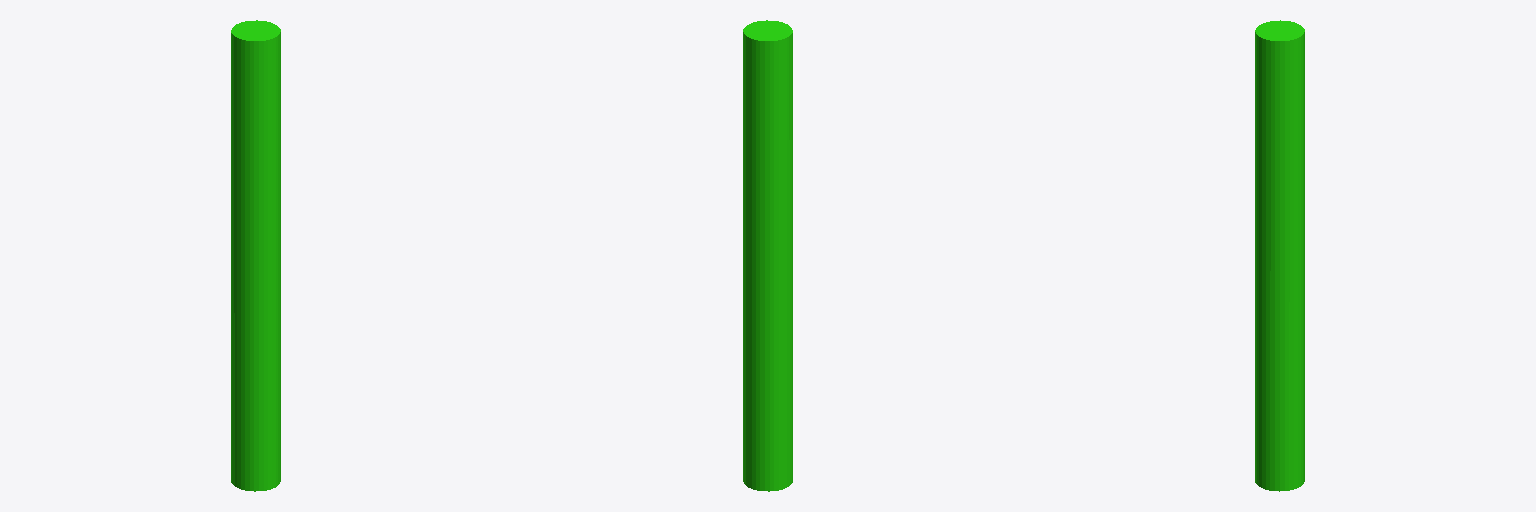
robot.urdf — Puma:
<?xml version="1.0" ?>

<robot name="Puma">

	<link name="ground">
		<inertial>
			<origin xyz="0.0 0.0 0.0" rpy="0 0 0" />
			<mass value="0.001" />
			<inertia ixx="0.01" iyy="0.01" izz="0.01" ixy="0" ixz="0" iyz="0" />
		</inertial>
		<visual>
			<origin xyz="0.0 0.0 0.0" rpy="0 0 0" />
			<geometry>
				<mesh filename="meshes/base_bl.obj" scale="1 1 1" />
			</geometry>
		</visual>
	</link>

	<link name="base">
		<inertial>
			<origin xyz="0.0 0.0 0.0" rpy="0 0 0" />
			<mass value="34.4" />
			<inertia ixx="0.18" iyy="0.18" izz="0.35" ixy="0" ixz="0" iyz="0" />
		</inertial>
		<visual>
			<origin xyz="0.0 0.0 0.0" rpy="0 0 0" />
			<geometry>
				<mesh filename="meshes/shoulder_bl.obj" scale="1 1 1" />
			</geometry>
		</visual>
	</link>

	<link name="upper_arm">
		<inertial>
			<origin xyz="0.068 0.006 -0.016" rpy="0 0 0" />
			<mass value="17.4" />
			<inertia ixx="0.130" iyy="0.524" izz="0.539" ixy="0" ixz="0" iyz="0" />
		</inertial>
		<visual>
			<origin xyz="0.0 0.0 0.0" rpy="0 0 0" />
			<geometry>
				<mesh filename="meshes/upper_arm_bl.obj" scale="1 1 1" />
			</geometry>
		</visual>
	</link>

	<link name="lower_arm">
		<inertial>
			<origin xyz="0.0 -0.143 0.014" rpy="0 0 0" />
			<mass value="6.04" />
			<inertia ixx="0.066" iyy="0.0125" izz="0.086" ixy="0" ixz="0" iyz="0" />
		</inertial>
		<visual>
			<origin xyz="-0.02 0.0 -0.005" rpy="0 0 0" />
			<geometry>
				<mesh filename="meshes/lower_arm_bl.obj" scale="1 1 1" />
			</geometry>
		</visual>
	</link>

	<link name="wrist-hand">
		<inertial>
			<origin xyz="0.0 0.0 -0.019" rpy="0 0 0" />
			<mass value="0.82" />
			<inertia ixx="0.0018" iyy="0.0018" izz="0.0013" ixy="0" ixz="0" iyz="0" />
		</inertial>
		<visual>
			<origin xyz="0.0 0.0 0.0" rpy="0 0 0" />
			<geometry>
				<mesh filename="meshes/hand_bl.obj" scale="1 1 1" />
			</geometry>
		</visual>
	</link>

	<link name="wrist-finger">
		<inertial>
			<origin xyz="0.0 0.0 0.0" rpy="0 0 0" />
			<mass value="0.34" />
			<inertia ixx="0.0003" iyy="0.0003" izz="0.0004" ixy="0" ixz="0" iyz="0" />
		</inertial>
		<visual>
			<origin xyz="0.0 0.0 0.0" rpy="0 0 0" />
			<geometry>
				<mesh filename="meshes/finger_bl.obj" scale="1 1 1" />
			</geometry>
		</visual>
	</link>

	<link name="end-effector">
		<inertial>
			<origin xyz="0.0 0.0 0.032" rpy="0 0 0" />
			<mass value="0.09" />
			<inertia ixx="0.000150" iyy="0.000150" izz="0.000040" ixy="0" ixz="0" iyz="0" />
		</inertial>
		<visual>
			<origin xyz="0.0 0.0 0.0" rpy="0 -1.5707 0" />
			<geometry>
                <cylinder radius="0.01" length="0.2" />
            </geometry>
            <material name="link5-1">
                <color rgba="0.2 0.9 0.1 1.0" />
            </material>
		</visual>
	</link>

	<joint name="shoulder-yaw" type="revolute">
		<parent link="ground" />
		<child link="base" />
		<origin xyz="0.0 0.0 0.66" rpy="0.0 0.0 0.0" />
		<axis xyz="0 0 1" />
		<limit lower="-3.14159" upper="3.14159" effort="97.6" velocity="1.0" />
	</joint>

	<joint name="shoulder-pitch" type="revolute">
		<parent link="base" />
		<child link="upper_arm" />
		<origin xyz="0.0 0.2435 0.0" rpy="-1.5707963268 0.0 0.0" />
		<axis xyz="0 0 1" />
		<limit lower="-3.14159" upper="3.14159" effort="186.4" velocity="1.0" />
	</joint>

	<joint name="elbow" type="revolute">
		<parent link="upper_arm" />
		<child link="lower_arm" />
		<origin xyz="0.4318 0.0 -0.0934" rpy="0.0 0.0 0.0" />
		<axis xyz="0 0 1" />
		<limit lower="-3.14159" upper="3.14159" effort="89.4" velocity="1.0" />
	</joint>

	<joint name="wrist-roll1" type="revolute">
		<parent link="lower_arm" />
		<child link="wrist-hand" />
		<origin xyz="-0.0203 -0.4331 0.0" rpy="1.5707963268 0.0 0.0" />
		<axis xyz="0 0 1" />
		<limit lower="-3.14159" upper="3.14159" effort="24.2" velocity="1.0" />
	</joint>

	<joint name="wrist-pitch" type="revolute">
		<parent link="wrist-hand" />
		<child link="wrist-finger" />
		<origin xyz="0.0 0.0 0.0" rpy="0 1.5707963268 -3.1415926536" />
		<axis xyz="0 0 1" />
		<limit lower="-3.14159" upper="3.14159" effort="20.1" velocity="1.0" />
	</joint>

	<joint name="wrist-roll2" type="revolute">
		<parent link="wrist-finger" />
		<child link="end-effector" />
		<origin xyz="-0.07 0.0 0.0" rpy="1.5707 0.0 0.0" />
		<axis xyz="1 0 0" />
		<limit lower="-3.14159" upper="3.14159" effort="21.3" velocity="1.0" />
	</joint>

</robot>

--- Facts derived from the render (not from the file) ---
The picture shows the robot from 3 angles, left to right: view 1: azimuth 30°, elevation 25°; view 2: azimuth 150°, elevation 25°; view 3: azimuth 270°, elevation 25°; orthographic projection.
Model Puma with 7 links and 6 joints (6 revolute), rooted at ground, posed all joints at 0.
Links seen in each view (by area): view 1: end-effector; view 2: end-effector; view 3: end-effector.
Link boxes in pixels (left/top/right/bottom): end-effector: left=231, top=20, right=280, bottom=491; end-effector: left=743, top=20, right=792, bottom=491; end-effector: left=1255, top=20, right=1304, bottom=491.
Bounding box of the posed robot: 0.02 × 0.02 × 0.2 m (x, y, z).
Meshes: 6 distinct files referenced, 0 mesh visuals loaded (none loaded); not drawn: 6 (reference not matched to a file when rendering).